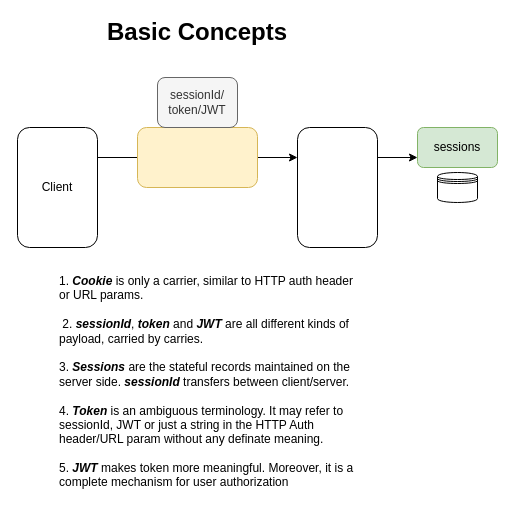
The diagram is 515 pixels wide and 524 high, and some of its shapes have lost their labels. Each missing label, with the centre of its shape:
"Cookie/URL param/HTTP auth header" goes at pixel 197 157.
"Server" goes at pixel 337 187.
